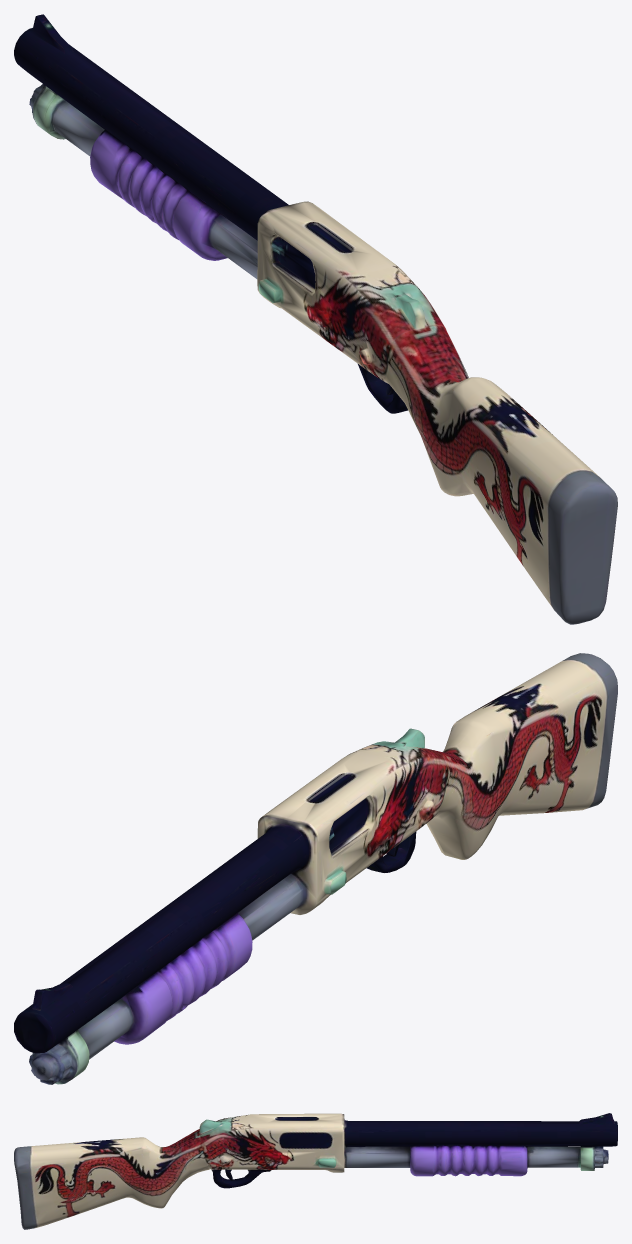
File: s_dragon.glb
3 renders of one model, top to bottom at view 1: azimuth 30°, elevation 25°; view 2: azimuth 150°, elevation 25°; view 3: azimuth 270°, elevation 25°, orthographic. The views are drawn at different scales.
Parts seen in each view (by area): view 1: node_0; view 2: node_0; view 3: node_0.
Part boxes in pixels (box(x1,y1,x2,y2)): node_0: box(14, 14, 617, 624); node_0: box(14, 653, 617, 1084); node_0: box(14, 1113, 617, 1229).
Bounding box in the file's own units: 0.096 × 0.2668 × 1.29.
Materials: 1 (1 with a texture image).
